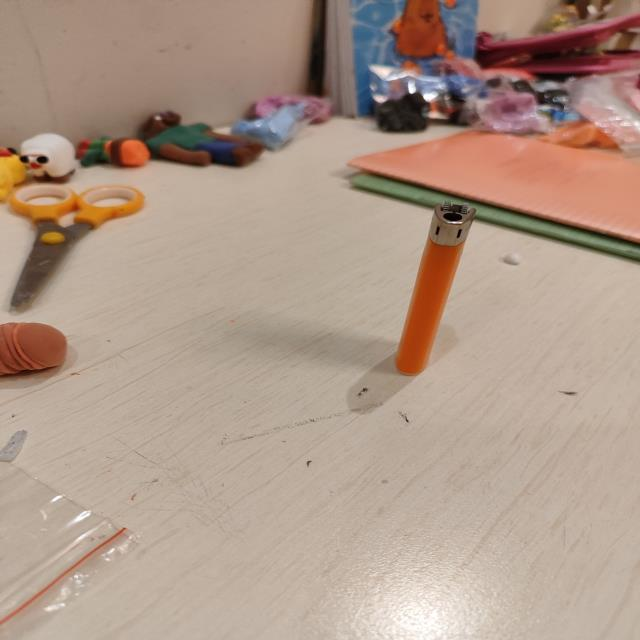lighter: (396, 202, 474, 375)
